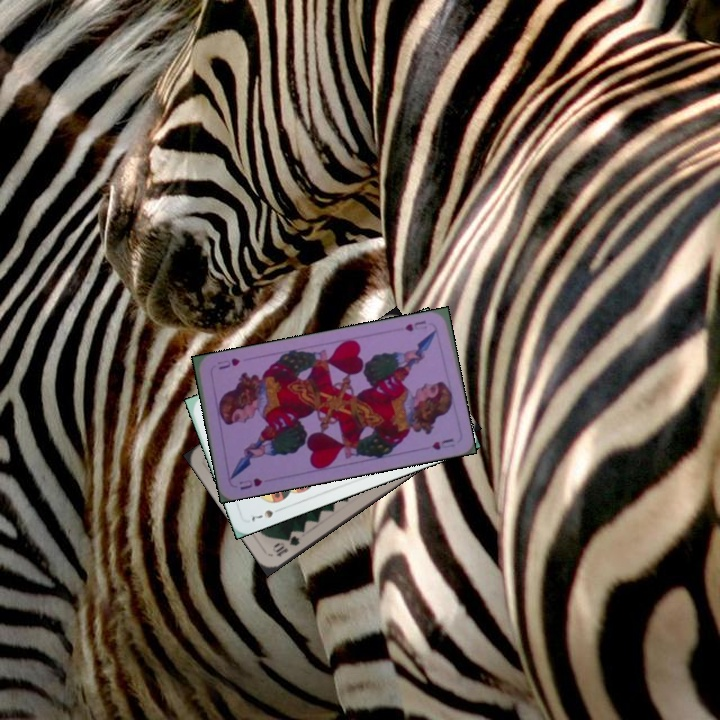G10: (272, 531, 302, 559)
HU: (235, 474, 265, 493), (401, 316, 430, 334)
S7: (247, 504, 285, 525)
